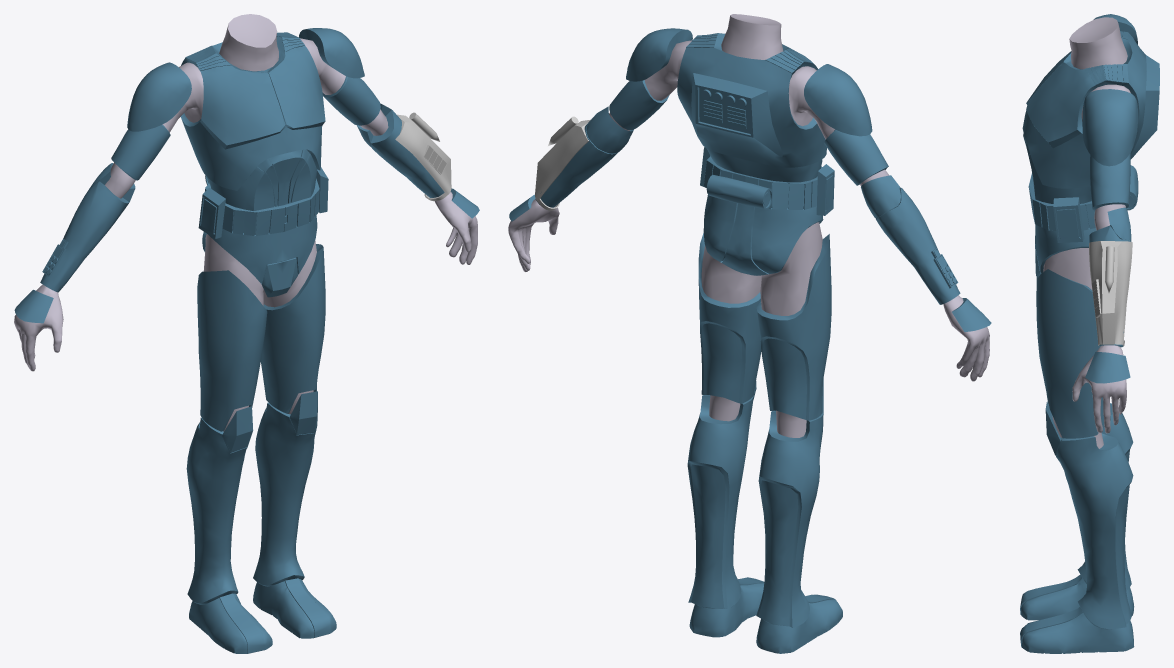
The model's file is ARC wrist left wris with body.obj.
3 views of the same model, side by side, from view 1: azimuth 30°, elevation 25°; view 2: azimuth 150°, elevation 25°; view 3: azimuth 270°, elevation 25° (orthographic). The views are drawn at different scales.
Parts seen in each view (by area): view 1: body_body.001, wrist_left_Wrist_right; view 2: body_body.001, wrist_left_Wrist_right; view 3: body_body.001, wrist_left_Wrist_right.
Part boxes in pixels (x1,y1,x2,y2): body_body.001: (14,14,479,653); wrist_left_Wrist_right: (395,112,451,201); body_body.001: (508,14,991,653); wrist_left_Wrist_right: (535,116,590,210); body_body.001: (1020,14,1159,653); wrist_left_Wrist_right: (1089,241,1132,346).
Bounding box in the file's own units: 52.77 × 65.29 × 13.71.
